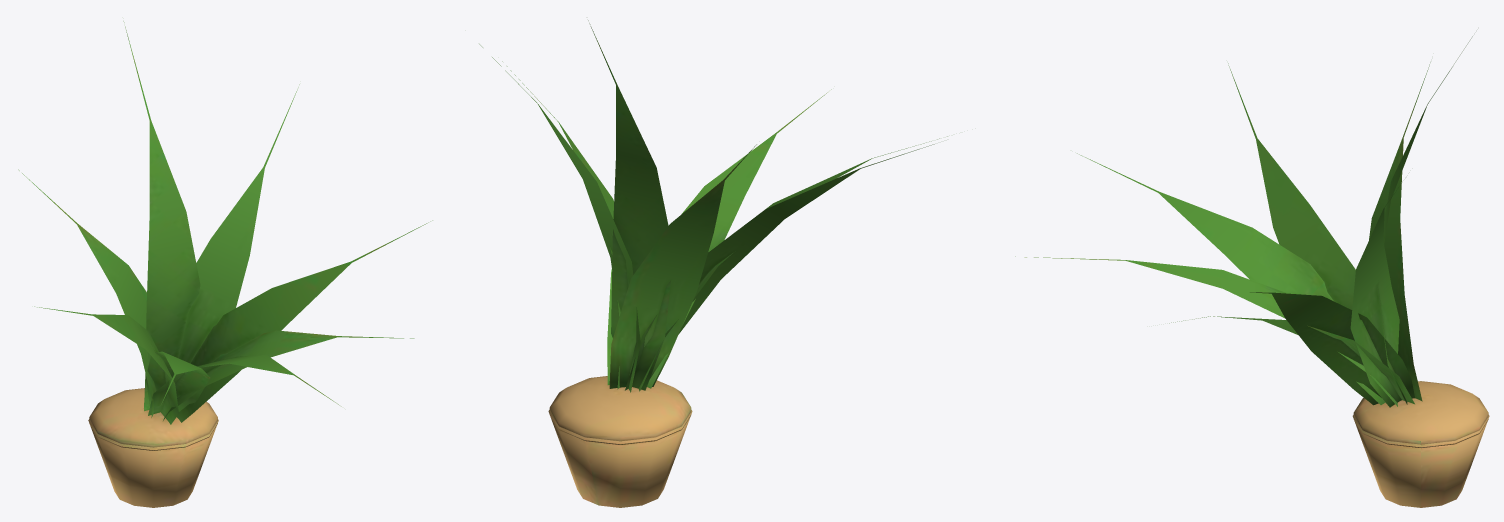
Rendered from crop_ginger.glb.
3 renders of one model, left to right at view 1: azimuth 30°, elevation 25°; view 2: azimuth 150°, elevation 25°; view 3: azimuth 270°, elevation 25°, orthographic. The views are drawn at different scales.
Parts seen in each view (by area): view 1: crop_ginger, fruit; view 2: crop_ginger, fruit; view 3: crop_ginger, fruit.
Part boxes in pixels (x1,y1,x2,y2): crop_ginger: [18, 21, 432, 424]; fruit: [88, 388, 218, 507]; crop_ginger: [479, 20, 947, 392]; fruit: [548, 376, 692, 507]; crop_ginger: [1015, 36, 1472, 407]; fruit: [1352, 381, 1489, 507].
Size of the model in its own units: 0.3673 by 0.3837 by 0.3483.
Materials: 1 (1 with a texture image).
